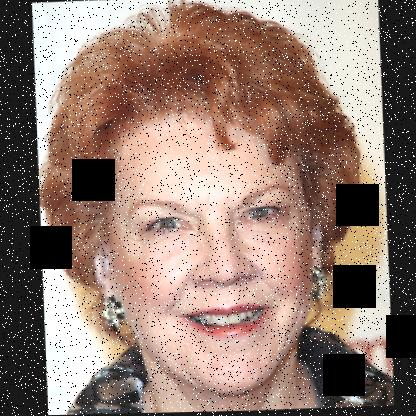Female: (88, 111, 327, 400)
